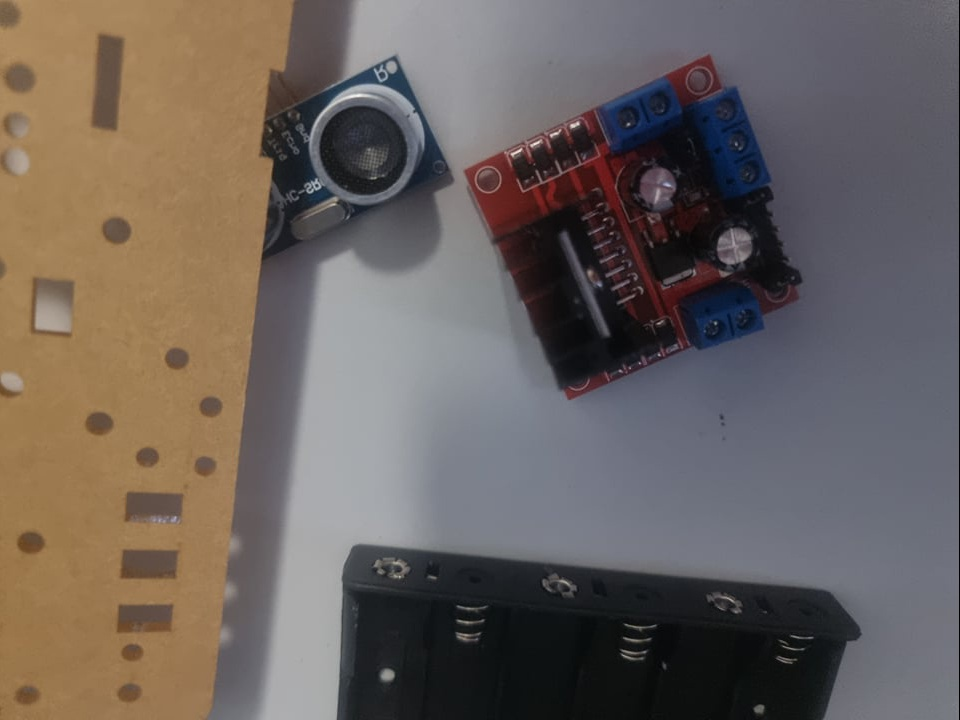BATTERY BOX: (335, 535, 862, 720)
MOTOR: (465, 52, 802, 400)
SENSOR: (238, 25, 459, 272)
